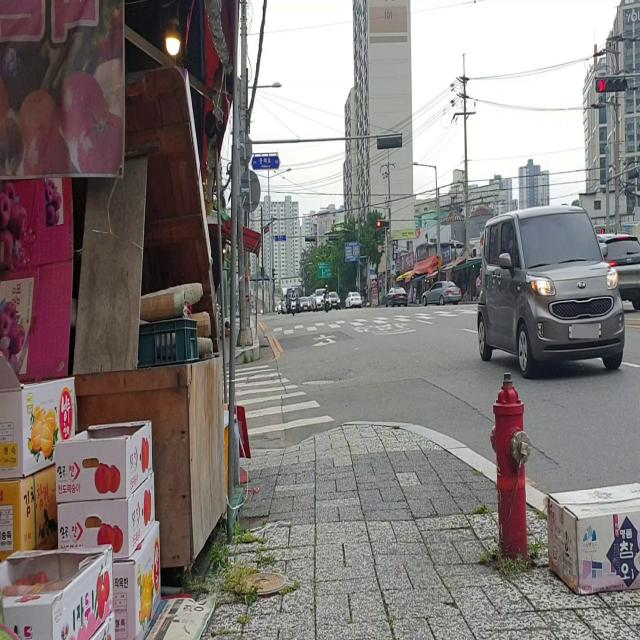횡단보도: (222, 363, 335, 437), (276, 306, 477, 337)
